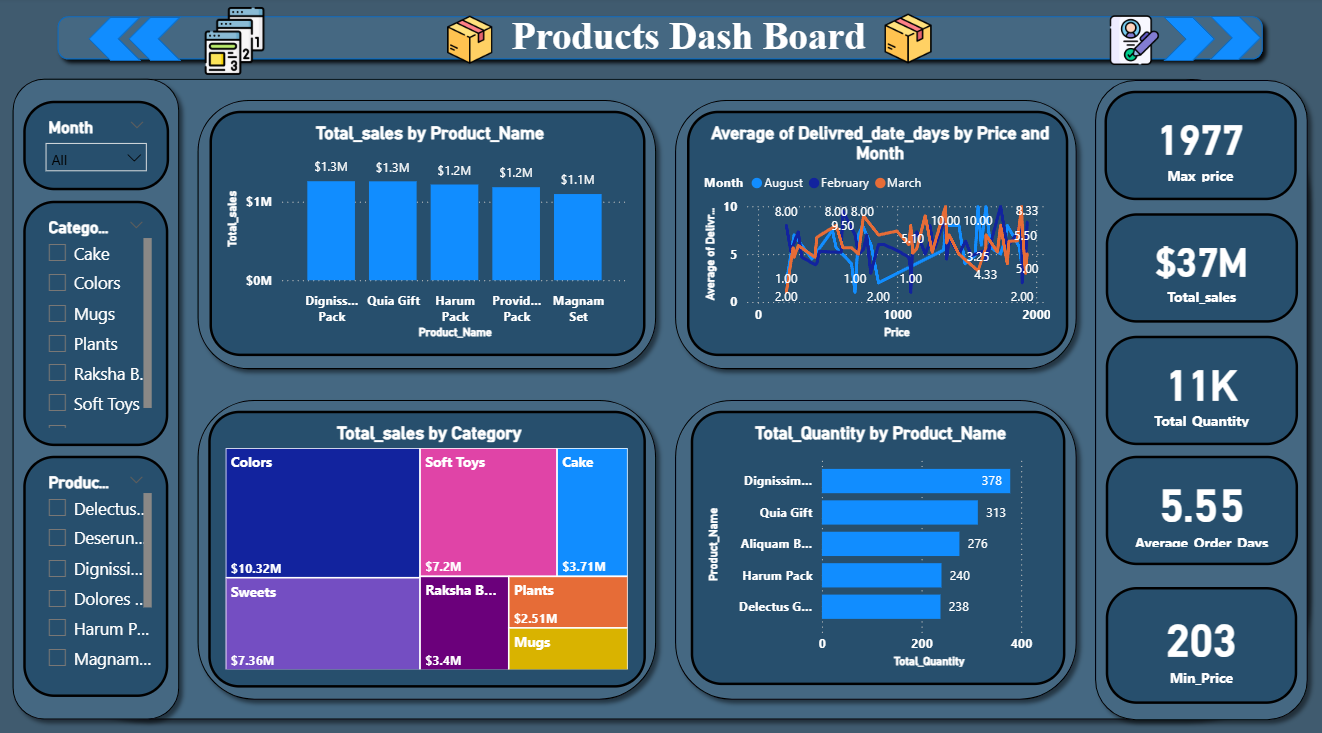

Layout of this report page (visuals, bound fields, positions):
{"tool":"powerbi","page":{"name":"Products","canvas":[1280,720],"ordinal":1},"visuals":[{"type":"group","id":"g1","title":"Group 2","box":[5.7,69.4,1268.3,636.8],"z":0},{"type":"shape","box":[16,69.9,1258,636.3],"z":0,"group":"g1"},{"type":"card","fields":{"Values":["DAX TABLE.Average_Order_Days"]},"box":[1069.8,442.2,185.3,105.5],"z":0,"group":"g2"},{"type":"shape","box":[49.6,9.9,1181.2,59.5],"z":1000},{"type":"shape","box":[1050.5,70,223.3,635.8],"z":1000,"group":"g1"},{"type":"card","fields":{"Values":["DAX TABLE.Total_sales"]},"box":[1069.8,208.1,185.3,105.5],"z":1000,"group":"g2"},{"type":"textbox","box":[463.8,11.2,408.8,57.5],"z":2000},{"type":"shape","box":[184.6,90,460.6,277.7],"z":2000,"group":"g1"},{"type":"image","box":[165.7,4.3,128.6,75.7],"z":3000},{"type":"shape","box":[645.1,90,405.6,277.7],"z":3000,"group":"g1"},{"type":"card","fields":{"Values":["DAX TABLE.Total_Cities"]},"box":[1070.3,568.8,185,112.5],"z":3000,"group":"g2"},{"type":"shape","box":[127.1,18.7,51,42.3],"z":4000},{"type":"shape","box":[5.7,69.4,178.9,636.4],"z":4000,"group":"g1"},{"type":"card","fields":{"Values":["DAX TABLE.Total_Customers"]},"box":[1069.1,90,185.3,105.5],"z":4000,"group":"g2"},{"type":"shape","box":[88.4,18.7,51,42.3],"z":5000},{"type":"card","fields":{"Values":["DAX TABLE.Total_Quantity"]},"box":[1069.8,326.4,185.3,105.5],"z":5000,"group":"g2"},{"type":"shape","box":[184.6,379.2,460.6,307.3],"z":5000,"group":"g1"},{"type":"image","box":[428.8,11.2,56.2,61.2],"z":6000},{"type":"shape","box":[645.1,379.2,405.6,307.3],"z":6000,"group":"g1"},{"type":"image","box":[850,10,57.5,61.2],"z":7000},{"type":"group","id":"g2","title":"Group 1","box":[1069.1,90,186.2,591.3],"z":7000,"group":"g1"},{"type":"image","box":[1068.3,9.2,57.5,63.3],"z":8000},{"type":"slicer","fields":{"Values":["orders.Month"]},"box":[25.4,99,140.8,86.1],"z":8000,"group":"g1"},{"type":"shape","box":[1125.8,19.2,50,42.5],"z":9000},{"type":"columnChart","fields":{"Category":["products.Product_Name"],"Y":["DAX TABLE.Total_sales"]},"box":[204.3,109.3,421.1,236.6],"z":9000,"group":"g1"},{"type":"shape","box":[1170,18.3,50,42.5],"z":10000},{"type":"clusteredBarChart","fields":{"Category":["products.Product_Name"],"Y":["DAX TABLE.Total_Quantity"]},"box":[669.1,398.5,362,264.8],"z":10000,"group":"g1"},{"type":"lineChart","fields":{"Category":["products.Price"],"Series":["orders.Month"],"Y":["Avg(orders.Delivred_date_days)"]},"box":[665.7,109.5,368.2,236.6],"z":11000,"group":"g1"},{"type":"treemap","fields":{"Group":["products.Category"],"Values":["DAX TABLE.Total_sales"]},"box":[204,399.1,422,267.6],"z":12000,"group":"g1"},{"type":"slicer","fields":{"Values":["products.Category"]},"box":[25.5,196.2,140.2,236.6],"z":13000,"group":"g1"},{"type":"slicer","fields":{"Values":["products.Product_Name"]},"box":[25.5,441.8,140.2,232.7],"z":14000,"group":"g1"}]}

Visuals, with their boxes in screenshot pixels (x1, y1, x2, y2), scaled from the page's 1280x720 canvas onto the 1322x733 screenshot:
"Group 2" group: (x1=6, y1=71, x2=1316, y2=719)
shape: (x1=17, y1=71, x2=1316, y2=719)
card - DAX TABLE.Average_Order_Days: (x1=1105, y1=450, x2=1296, y2=558)
shape: (x1=51, y1=10, x2=1271, y2=71)
shape: (x1=1085, y1=71, x2=1316, y2=719)
card - DAX TABLE.Total_sales: (x1=1105, y1=212, x2=1296, y2=319)
textbox: (x1=479, y1=11, x2=901, y2=70)
shape: (x1=191, y1=92, x2=666, y2=374)
image: (x1=171, y1=4, x2=304, y2=81)
shape: (x1=666, y1=92, x2=1085, y2=374)
card - DAX TABLE.Total_Cities: (x1=1105, y1=579, x2=1296, y2=694)
shape: (x1=131, y1=19, x2=184, y2=62)
shape: (x1=6, y1=71, x2=191, y2=719)
card - DAX TABLE.Total_Customers: (x1=1104, y1=92, x2=1296, y2=199)
shape: (x1=91, y1=19, x2=144, y2=62)
card - DAX TABLE.Total_Quantity: (x1=1105, y1=332, x2=1296, y2=440)
shape: (x1=191, y1=386, x2=666, y2=699)
image: (x1=443, y1=11, x2=501, y2=74)
shape: (x1=666, y1=386, x2=1085, y2=699)
image: (x1=878, y1=10, x2=937, y2=72)
"Group 1" group: (x1=1104, y1=92, x2=1296, y2=694)
image: (x1=1103, y1=9, x2=1163, y2=74)
slicer - orders.Month: (x1=26, y1=101, x2=172, y2=188)
shape: (x1=1163, y1=20, x2=1214, y2=63)
columnChart - products.Product_Name x DAX TABLE.Total_sales: (x1=211, y1=111, x2=646, y2=352)
shape: (x1=1208, y1=19, x2=1260, y2=62)
clusteredBarChart - products.Product_Name x DAX TABLE.Total_Quantity: (x1=691, y1=406, x2=1065, y2=675)
lineChart - products.Price x orders.Month: (x1=688, y1=111, x2=1068, y2=352)
treemap - products.Category x DAX TABLE.Total_sales: (x1=211, y1=406, x2=647, y2=679)
slicer - products.Category: (x1=26, y1=200, x2=171, y2=441)
slicer - products.Product_Name: (x1=26, y1=450, x2=171, y2=687)
